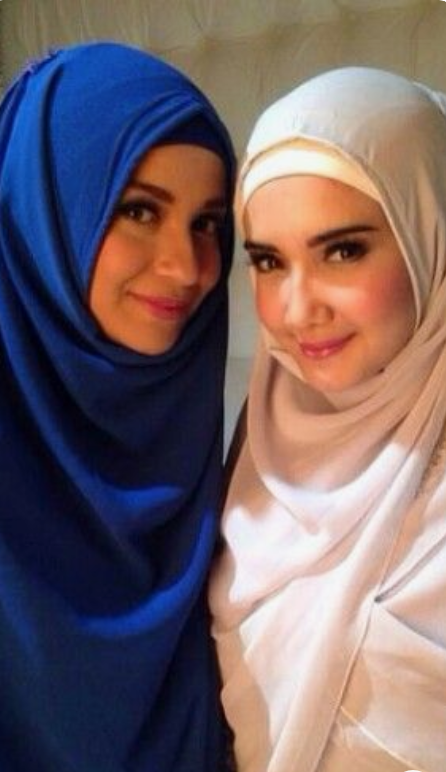no_mask: (89, 236, 229, 358), (257, 297, 424, 394)
